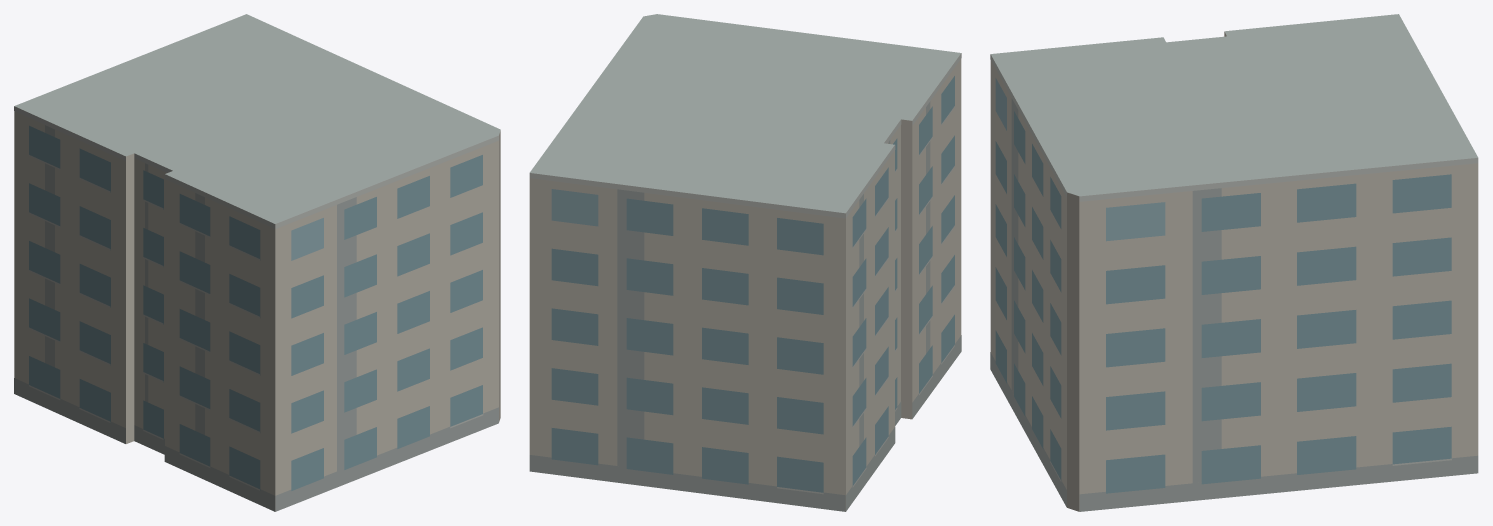
File: survey-upis-32914650.glb
The picture shows the model from 3 angles, left to right: view 1: azimuth 30°, elevation 25°; view 2: azimuth 150°, elevation 25°; view 3: azimuth 270°, elevation 25°; orthographic projection. The views are drawn at different scales.
Parts seen in each view (by area): view 1: survey-upis-32914650.tmp; view 2: survey-upis-32914650.tmp; view 3: survey-upis-32914650.tmp.
Boxes of the visible parts, box(x1,y1,x2,y2) form: survey-upis-32914650.tmp: box(14, 14, 500, 511); survey-upis-32914650.tmp: box(529, 14, 961, 511); survey-upis-32914650.tmp: box(990, 14, 1478, 511).
Bounding box in the file's own units: 17.37 × 14 × 19.63.
